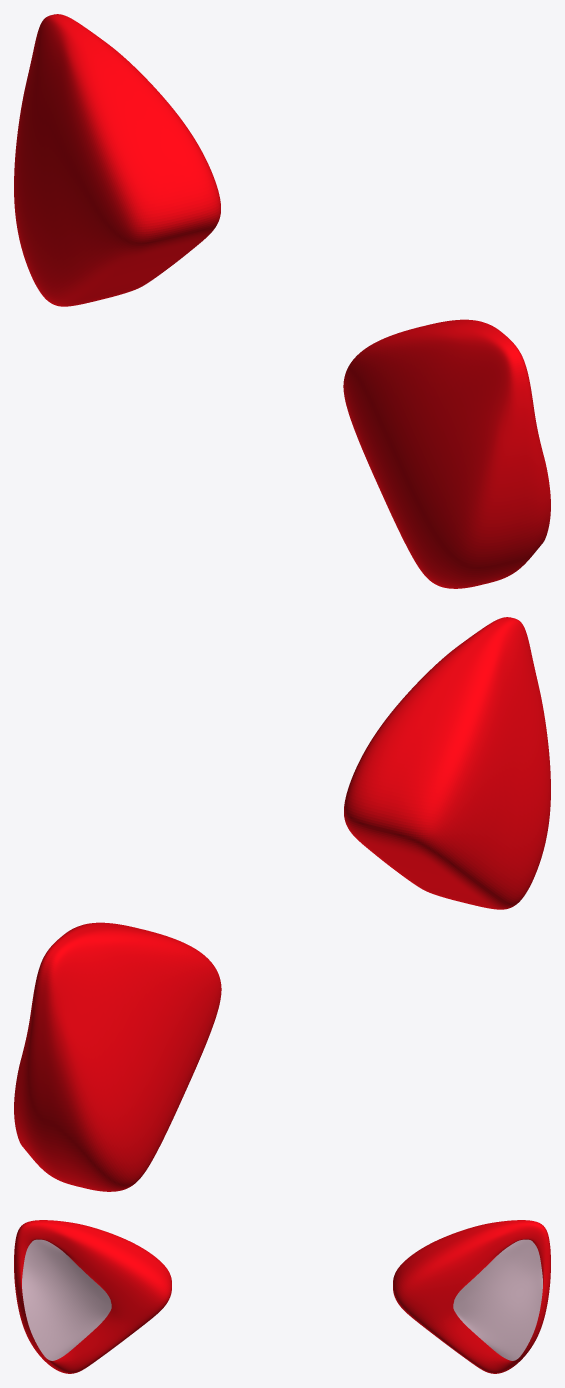
The model's file is Cat_ear.fbx.
The picture shows the model from 3 angles, top to bottom: view 1: azimuth 30°, elevation 25°; view 2: azimuth 150°, elevation 25°; view 3: azimuth 270°, elevation 25°; orthographic projection. The views are drawn at different scales.
Visible parts, largest first — view 1: 큐브.001; view 2: 큐브.001; view 3: 큐브.001, 큐브.002.
Boxes of the visible parts, x1,y1,x2,y2 form: 큐브.001: [14, 14, 550, 588]; 큐브.001: [14, 617, 550, 1191]; 큐브.001: [14, 1220, 550, 1373]; 큐브.002: [22, 1239, 542, 1360].
Bounding box in the file's own units: 0.1619 × 0.3736 × 1.25.
